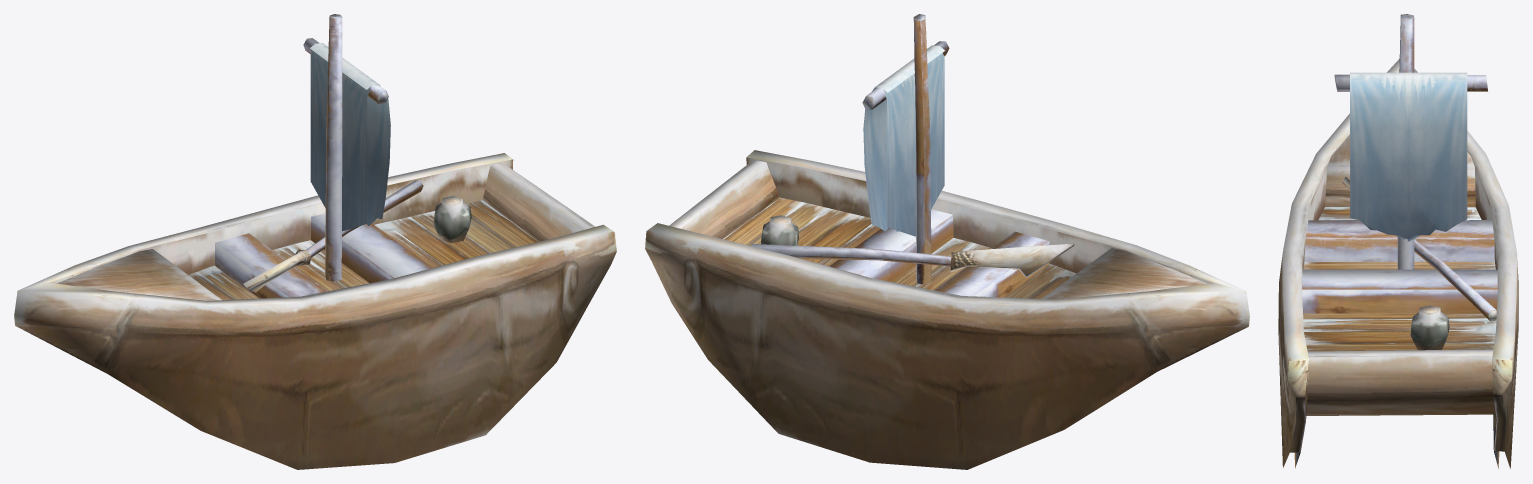
The model's file is SM_Ship_01.fbx.
3 renders of one model, left to right at view 1: azimuth 30°, elevation 25°; view 2: azimuth 150°, elevation 25°; view 3: azimuth 270°, elevation 25°, orthographic. The views are drawn at different scales.
Visible parts, largest first — view 1: SM_Ship_01; view 2: SM_Ship_01; view 3: SM_Ship_01.
Part boxes in pixels (box(x1,y1,x2,y2)): SM_Ship_01: box(14, 14, 616, 469); SM_Ship_01: box(645, 14, 1249, 469); SM_Ship_01: box(1278, 14, 1518, 468).
Bounding box in the file's own units: 13.18 × 9.32 × 4.87.
